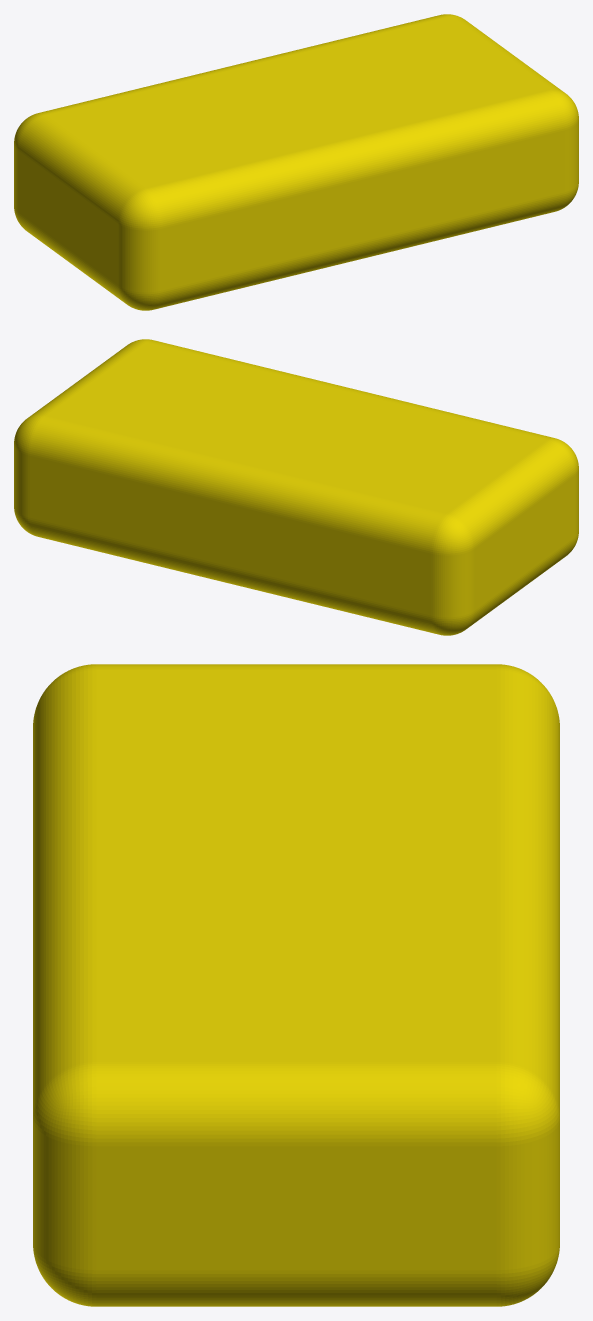
Rendered from BlockYellow.fbx.
3 views of the same model, one above another, from view 1: azimuth 30°, elevation 25°; view 2: azimuth 150°, elevation 25°; view 3: azimuth 270°, elevation 25° (orthographic). The views are drawn at different scales.
Visible parts, largest first — view 1: Cube.005; view 2: Cube.005; view 3: Cube.005.
Part boxes in pixels (<box>): Cube.005: <box>14,14,578,310</box>; Cube.005: <box>14,339,578,635</box>; Cube.005: <box>33,664,559,1306</box>.
Size of the model in its own units: 4 by 1 by 2.
